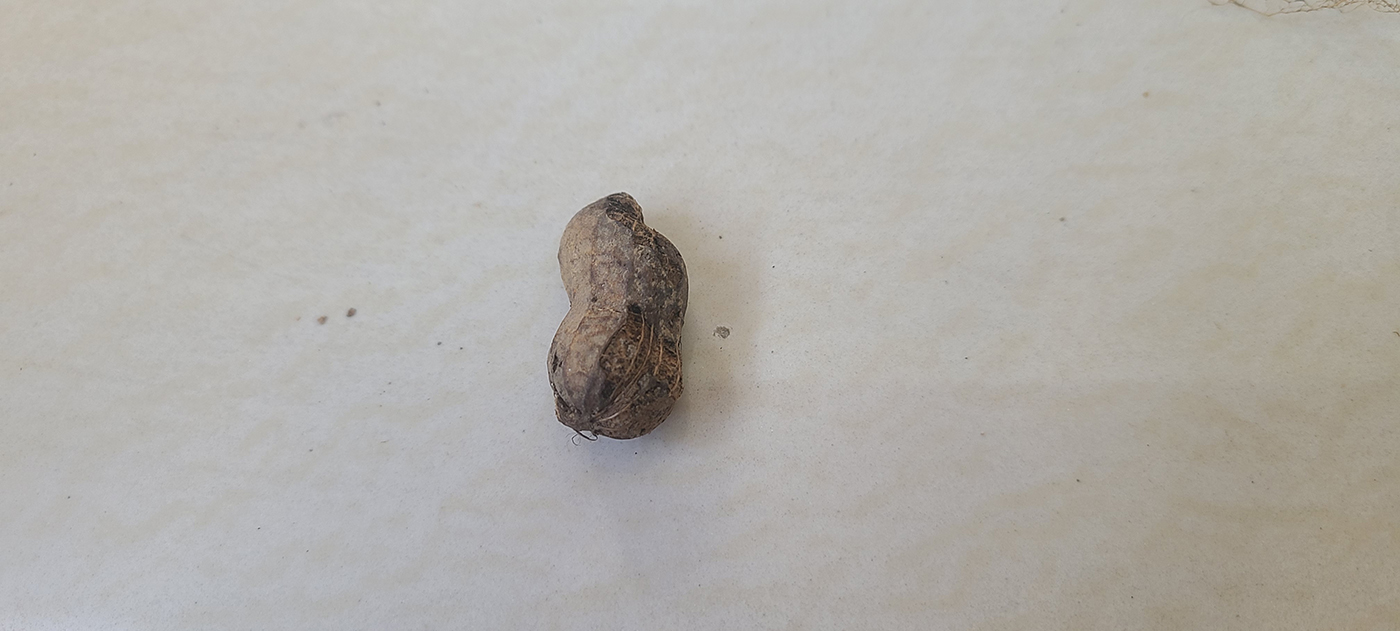l: (547, 195, 689, 442)
